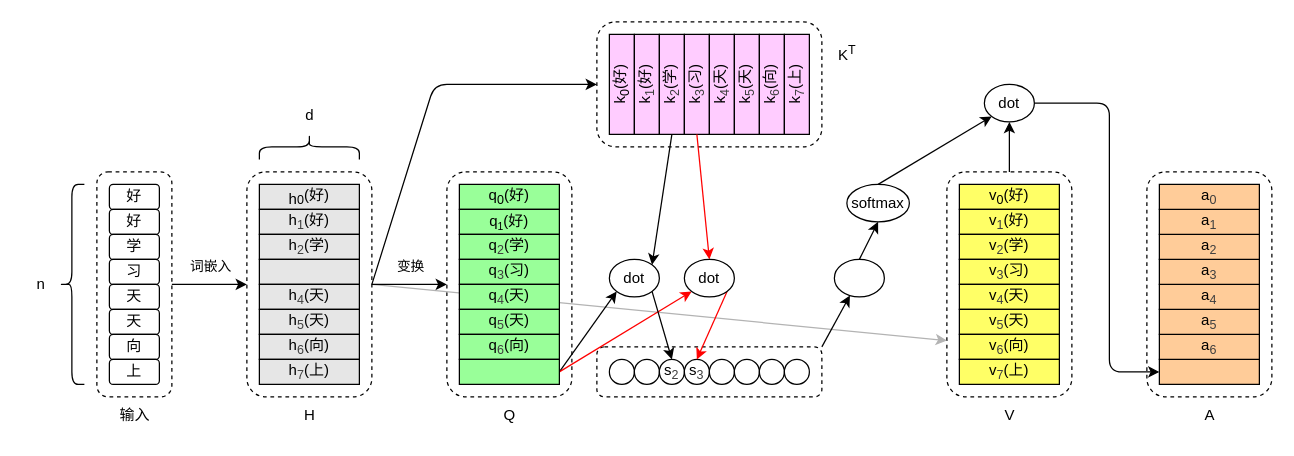
Some shapes in this 1294 by 456 pixel diagram are drawn without their labels. The centre of each missing label's shape, as x and y in pixels:
"a 7" belongs at pixel 1208 371.
"h 3 (习)" belongs at pixel 308 271.
"q 7 (上)" belongs at pixel 508 371.
"scale" belongs at pixel 858 277.
